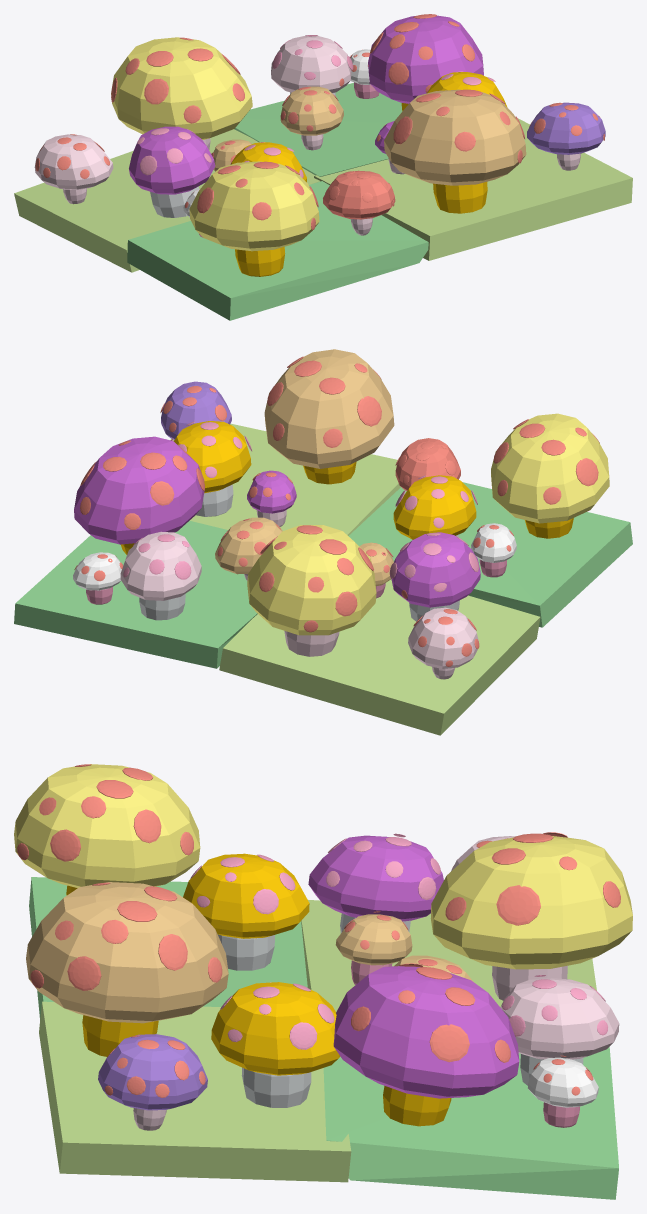
File: Mushrooms by Brandon Wood - 3mC86fzhLSZ.glb
3 renders of one model, top to bottom at view 1: azimuth 30°, elevation 25°; view 2: azimuth 150°, elevation 25°; view 3: azimuth 270°, elevation 25°, orthographic. The views are drawn at different scales.
Parts seen in each view (by area): view 1: group1995417650, group1055616103, group900398229, group502198210, group1151647546, group457492361, group407155482, group199259018; view 2: group1055616103, group900398229, group1995417650, group1151647546, group502198210, group199259018, group457492361, group1648198660, group407155482, group62184888; view 3: group900398229, group1055616103, group1995417650, group502198210, group1151647546, group199259018, group457492361, group1648198660, group407155482, group758471756, group1923526933, group1515607040 (+2 smaller).
Part boxes in pixels (<box>): group1995417650: <box>127,142,428,320</box>; group1055616103: <box>14,37,320,272</box>; group900398229: <box>234,14,483,176</box>; group502198210: <box>314,118,632,260</box>; group1151647546: <box>384,89,526,185</box>; group457492361: <box>527,102,605,154</box>; group407155482: <box>433,182,487,213</box>; group199259018: <box>375,72,507,174</box>; group1055616103: <box>219,525,540,735</box>; group900398229: <box>14,436,282,668</box>; group1995417650: <box>348,413,632,627</box>; group1151647546: <box>264,349,394,468</box>; group502198210: <box>170,423,400,535</box>; group199259018: <box>173,421,296,526</box>; group457492361: <box>161,381,231,439</box>; group1648198660: <box>195,484,233,516</box>; group407155482: <box>303,461,356,484</box>; group62184888: <box>357,396,381,426</box>; group900398229: <box>323,955,619,1199</box>; group1055616103: <box>301,832,632,1011</box>; group1995417650: <box>14,764,309,1019</box>; group502198210: <box>39,1001,351,1182</box>; group1151647546: <box>26,882,228,1023</box>; group199259018: <box>211,982,340,1075</box>; group457492361: <box>98,1034,207,1110</box>; group1648198660: <box>241,1067,311,1107</box>; group407155482: <box>82,1015,158,1056</box>; group758471756: <box>67,956,101,990</box>; group1923526933: <box>158,934,187,970</box>; group1515607040: <box>117,901,157,921</box>.
Size of the model in its own units: 2.27 by 0.8671 by 2.02.
